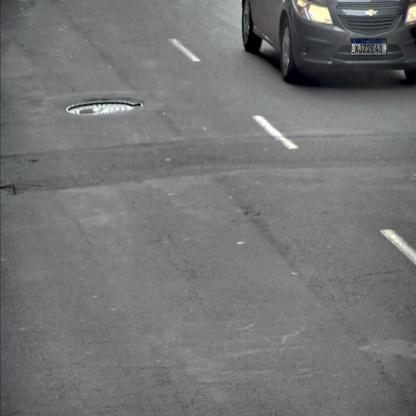PlacaM: (351, 39, 387, 55)
